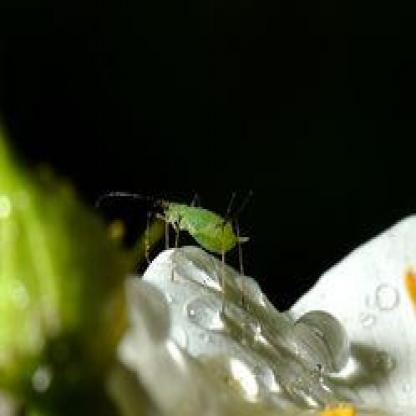aphid: (121, 182, 255, 306)
